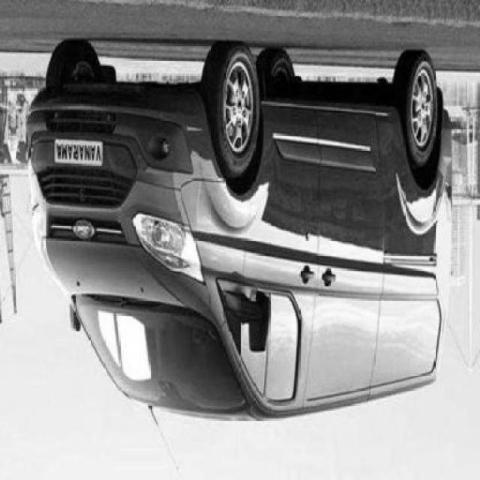van: (25, 36, 449, 423)
